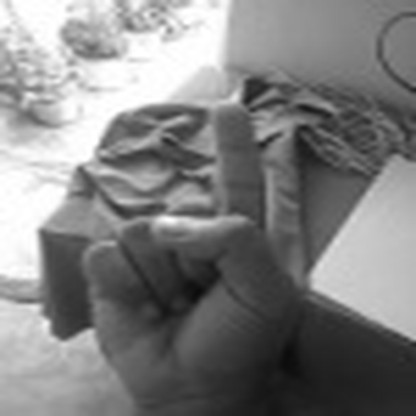d: (75, 95, 286, 416)
